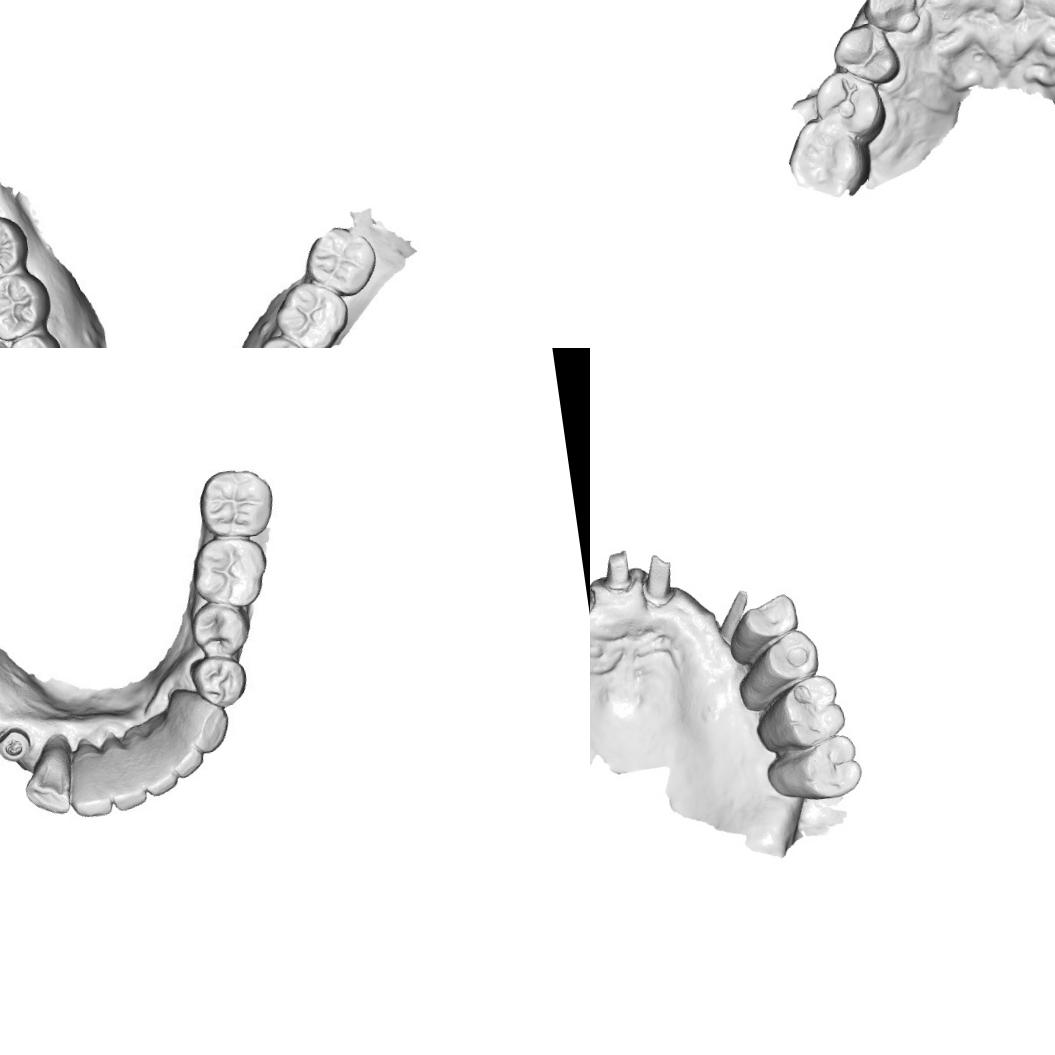canine: (19, 732, 79, 822), (168, 679, 232, 758), (858, 0, 924, 39)
crown: (711, 586, 758, 647), (637, 550, 679, 611), (598, 548, 636, 596)
implant: (0, 727, 33, 766)
incisor: (64, 734, 118, 821), (148, 712, 204, 780), (104, 730, 149, 813), (129, 725, 181, 795)
molar: (784, 109, 876, 203), (750, 670, 849, 756), (762, 732, 865, 808), (196, 460, 278, 540), (187, 532, 270, 611), (300, 222, 380, 301), (275, 278, 355, 348), (0, 269, 55, 343), (0, 212, 31, 281)
premolar: (732, 627, 824, 714), (806, 64, 892, 150), (722, 591, 803, 667), (825, 17, 904, 92), (192, 649, 253, 710), (191, 602, 250, 659), (4, 329, 63, 348), (253, 337, 311, 348)
